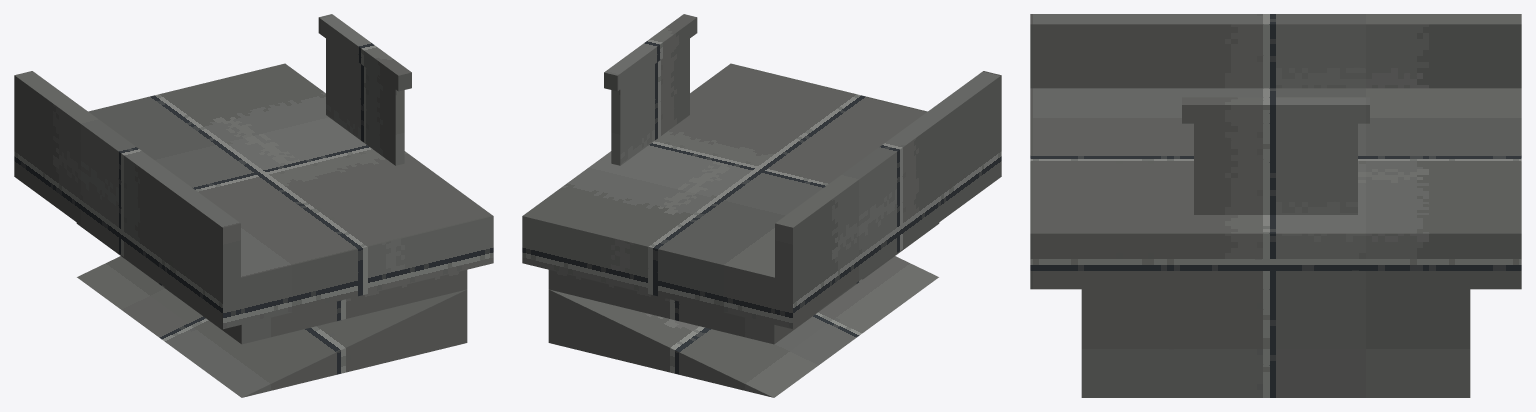
The model's file is arch_secret_alcove.glb.
The picture shows the model from 3 angles, left to right: view 1: azimuth 30°, elevation 25°; view 2: azimuth 150°, elevation 25°; view 3: azimuth 270°, elevation 25°; orthographic projection. The views are drawn at different scales.
Visible parts, largest first — view 1: arch_secret_alcove; view 2: arch_secret_alcove; view 3: arch_secret_alcove.
Boxes of the visible parts, x1,y1,x2,y2 form: arch_secret_alcove: (14, 14, 493, 397); arch_secret_alcove: (522, 14, 1001, 397); arch_secret_alcove: (1030, 14, 1521, 397).
Size of the model in its own units: 1.8 by 1.54 by 2.4.
Materials: 1 (1 with a texture image).
